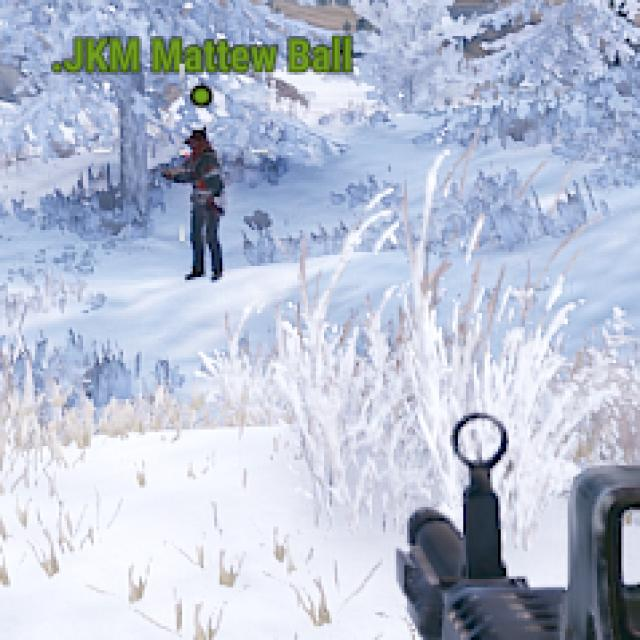Player: (173, 127, 226, 280)
